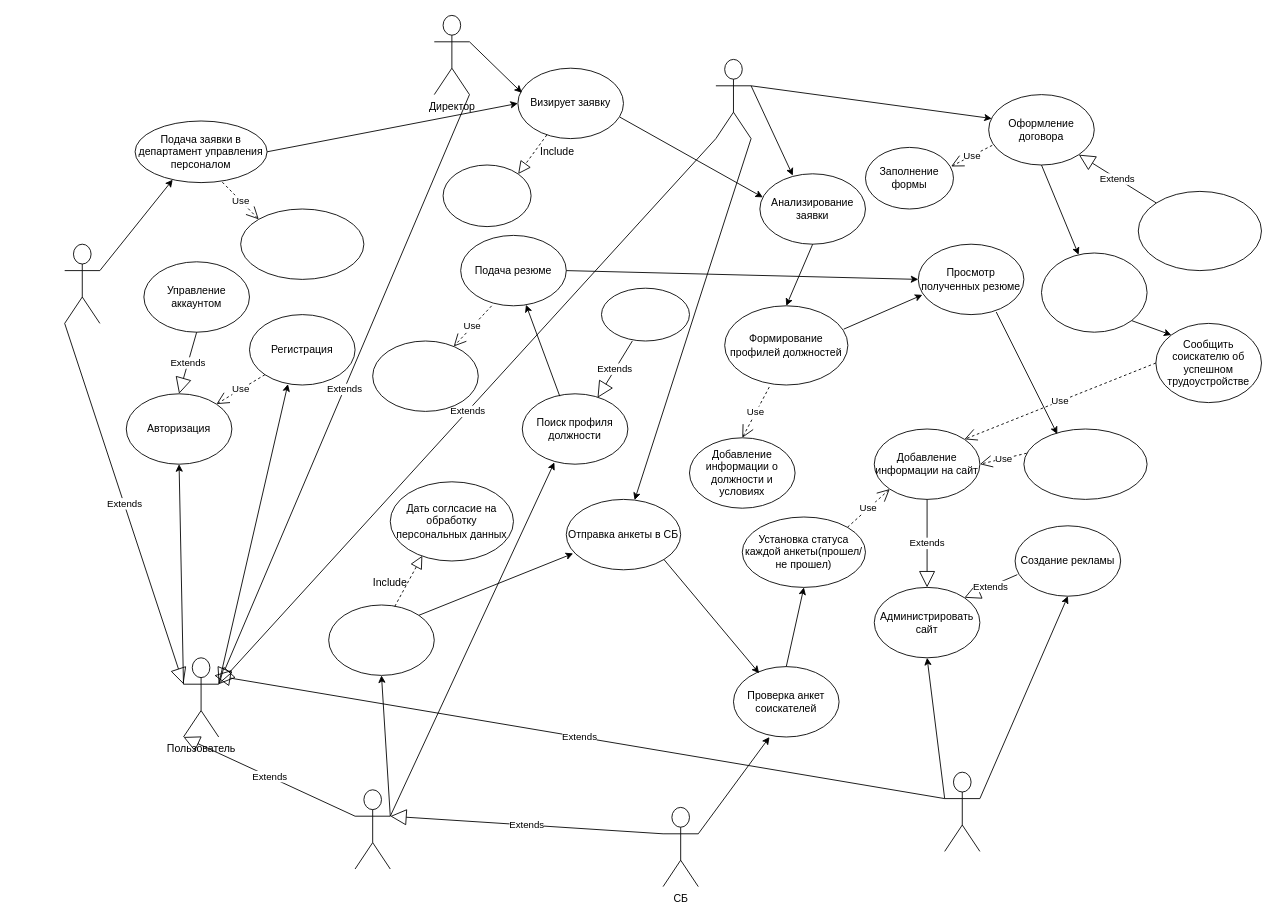
The diagram is 1277 pixels wide and 920 high, and some of its shapes have lost their labels. Here are the shapes that lost their labels. From the top down, the centre of each, then its label:
At (x=733, y=99): "Рекрутер".
At (x=486, y=195): "Подтверждение заявки(подпись)".
At (x=302, y=243): "Заполнение бланка заявки на подбор кандидата".
At (x=1199, y=231): "Проверить данные о соискателе (СБ)".
At (x=82, y=283): "Руководитель структурного подразделения".
At (x=1094, y=292): "Добавление соискателя в БД сотрудников компании".
At (x=645, y=314): "Поиск по наименованию должности".
At (x=425, y=375): "Заполнение формы с данными".
At (x=1085, y=463): "Установка резюме статуса(подходит/не подходит)".
At (x=381, y=639): "Заполнение анкеты".
At (x=372, y=829): "Соискатель".
At (x=962, y=811): "Администратор".
